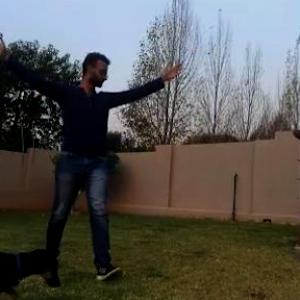takeoff: (0, 4, 238, 297)
